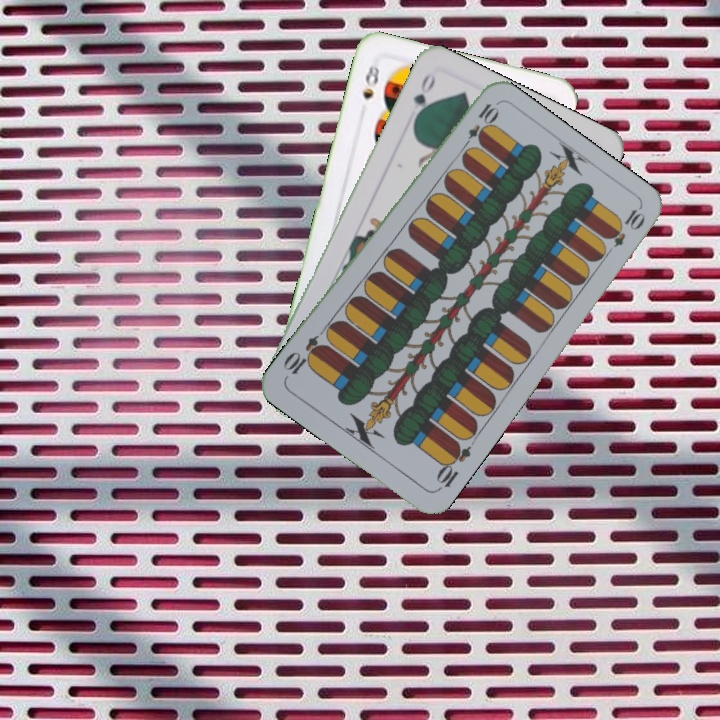E10: (431, 438, 474, 494), (458, 99, 500, 153)
GO: (409, 69, 438, 126)
S8: (358, 60, 382, 102)
